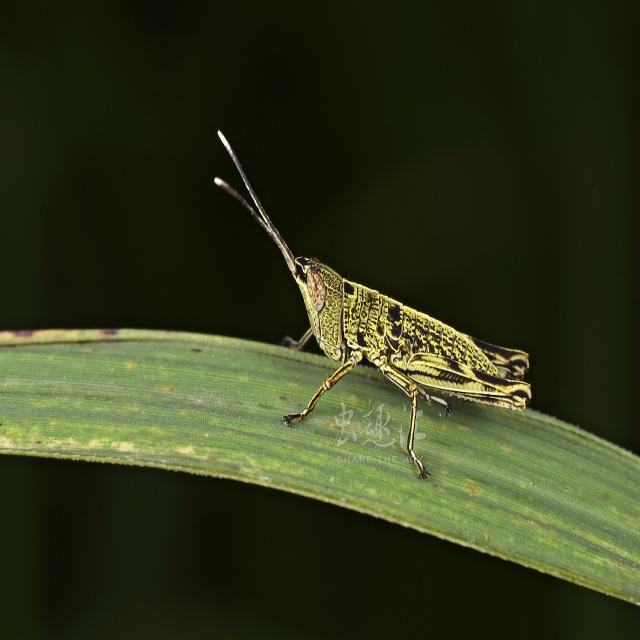ZhaMeng: (196, 124, 560, 461)
